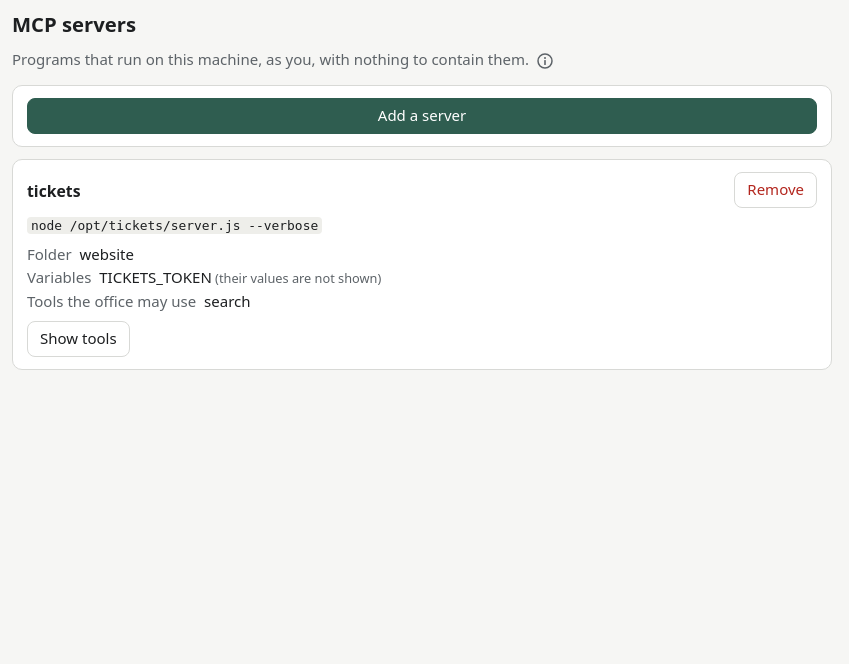
the MCP servers › shows the tools as the server describes them, and which are approved, new or changed
Click the button "Show tools": [78, 339] box left=27, top=321, right=130, bottom=357
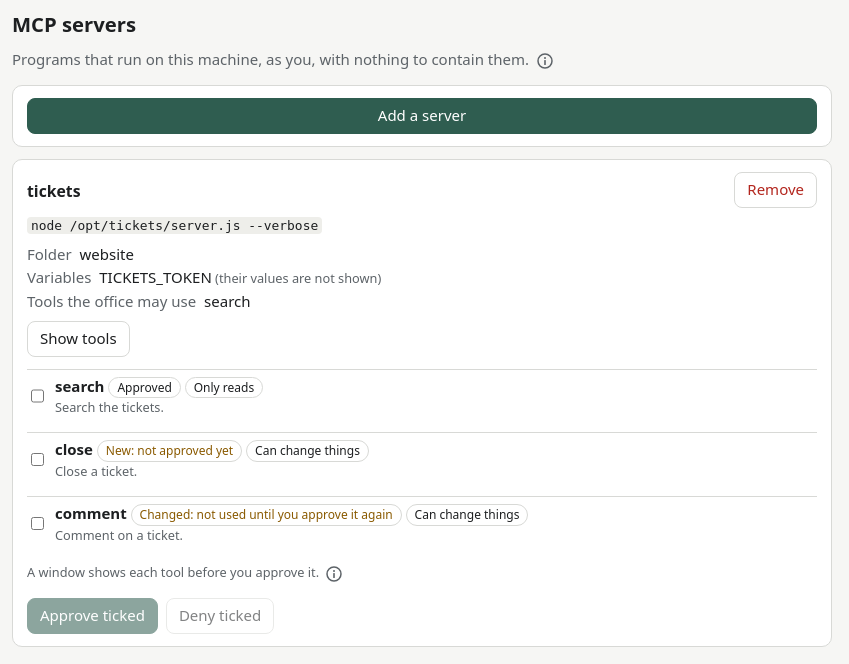
Check: the list named "Tools of tickets" shows "Approved", box left=117, top=378, right=172, bottom=396
Check: the list named "Tools of tickets" shows "New: not approved yet", box left=106, top=442, right=233, bottom=459
Check: the list named "Tools of tickets" shows "Changed: not used until you approve it again", box left=140, top=506, right=393, bottom=523
